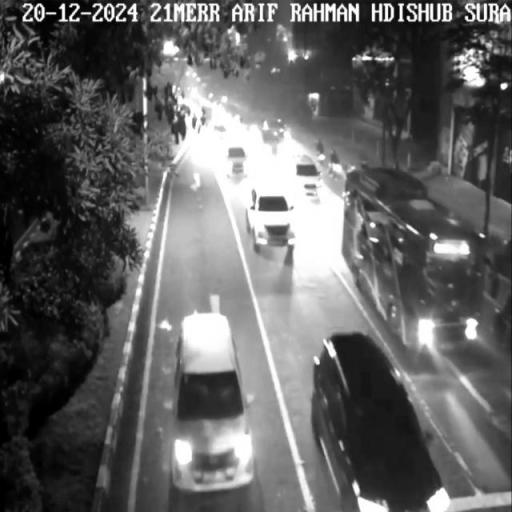car: (364, 160, 496, 344), (315, 331, 446, 512), (179, 310, 254, 492), (248, 183, 306, 262), (291, 151, 327, 200), (223, 136, 249, 184), (345, 336, 362, 354)
